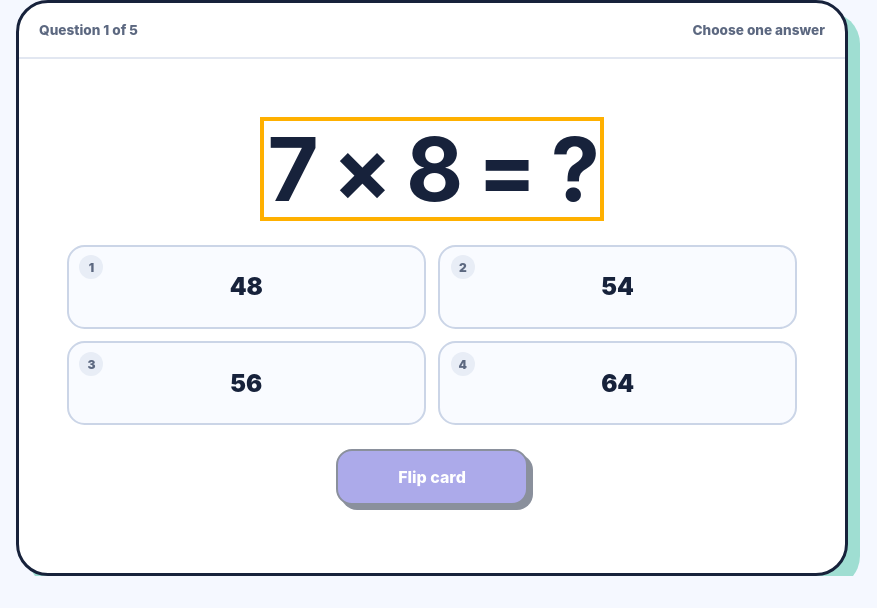
Test: QuestionCard › requires a selection, permits changes, and reveals the answer
The image size is (877, 608).
Expected: the button "Flip card" is disabled, x1=336 y1=449 x2=528 y2=505
Click the button named "Answer 1: 48" at x=246, y=287, box x1=67 y1=245 x2=426 y2=329
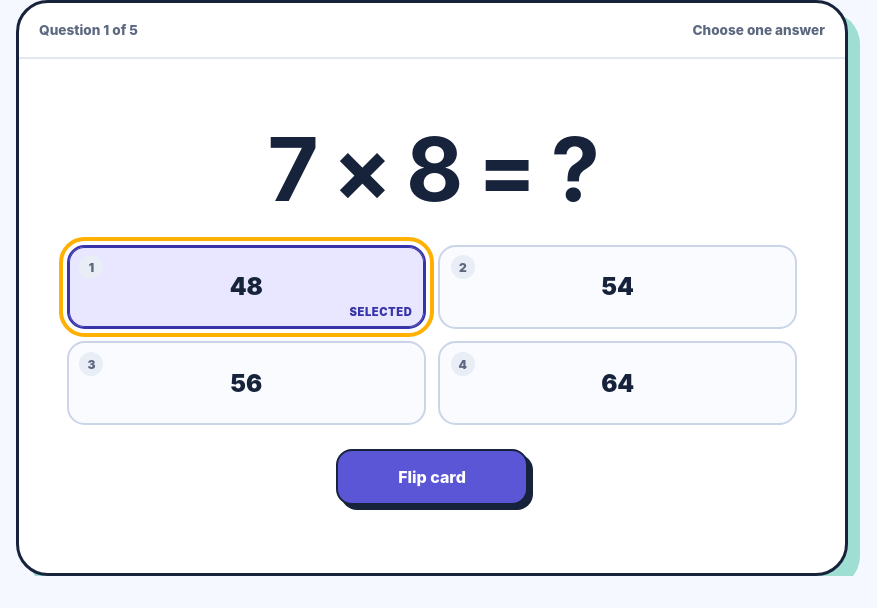
Click the button named "Answer 3: 56" at x=246, y=383, box x1=67 y1=341 x2=426 y2=425
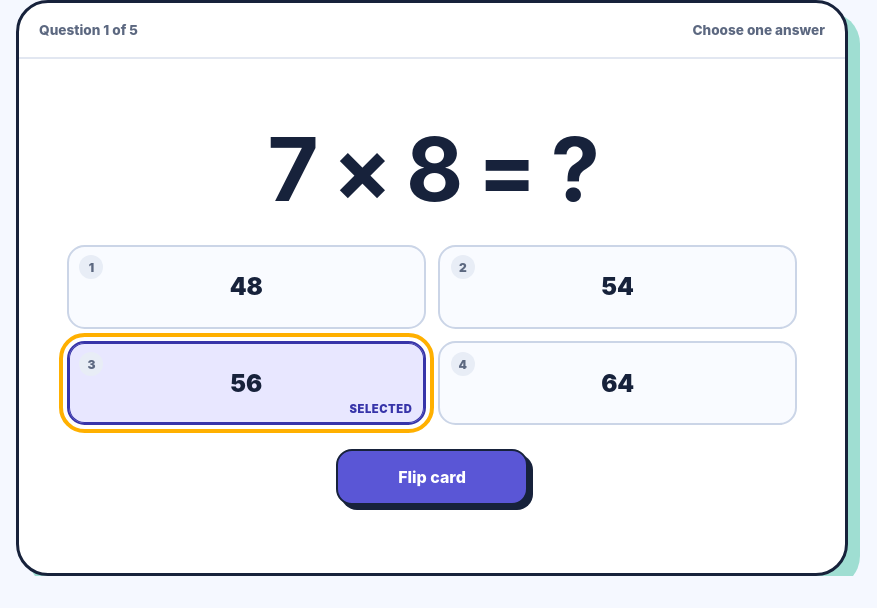
Now the button with aria-label "answer 3: 56, selected" is pressed, box x1=67 y1=341 x2=426 y2=425
Click the button "Flip card" at x=432, y=477, box x1=336 y1=449 x2=528 y2=505
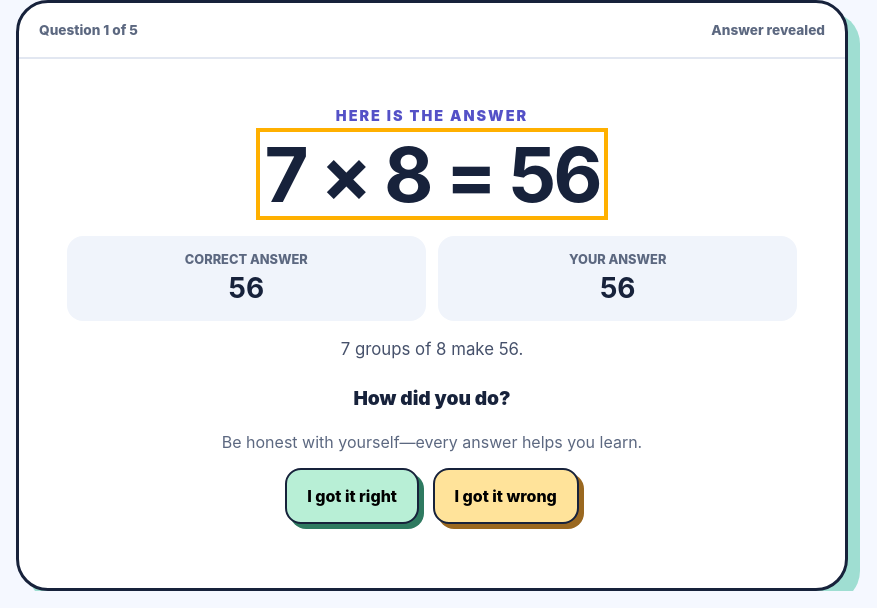
Now the text "Correct answer" is shown, box x1=185 y1=252 x2=308 y2=267
Now the text "Your answer" is shown, box x1=569 y1=252 x2=666 y2=267
Now the heading "7 × 8 = 56" is shown, box x1=264 y1=136 x2=600 y2=212
